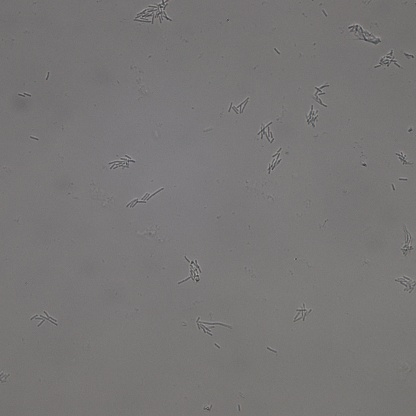R(colony): (134, 1, 173, 24), (126, 188, 163, 208), (349, 22, 381, 44), (196, 318, 233, 336), (178, 256, 201, 284), (30, 309, 59, 327), (108, 154, 136, 172), (374, 50, 402, 67), (257, 120, 275, 144), (396, 275, 416, 296), (400, 223, 412, 257), (227, 97, 249, 115), (267, 148, 282, 174), (293, 303, 312, 323), (304, 104, 319, 128), (314, 84, 330, 106), (395, 151, 412, 166)
